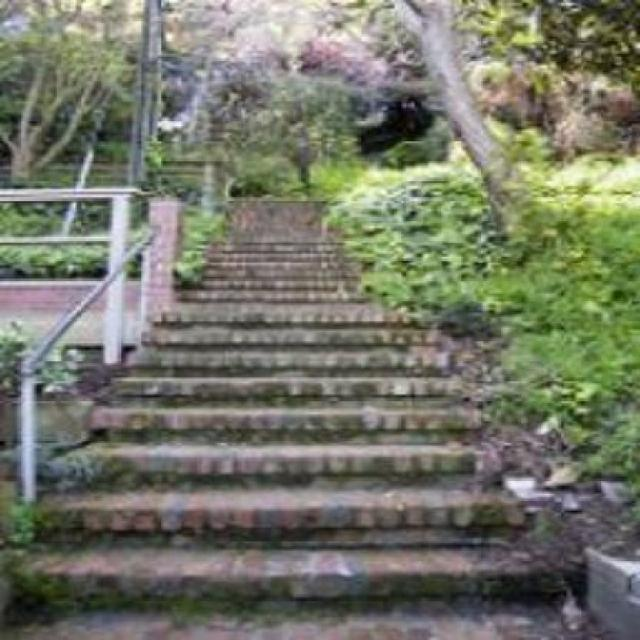stair: (29, 300, 586, 640)
